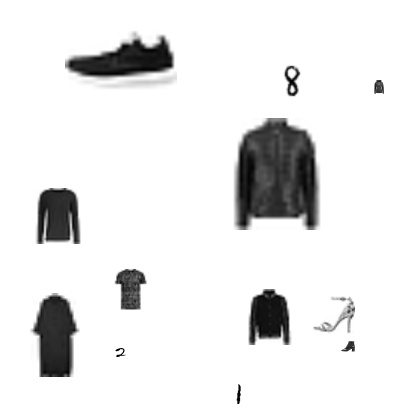1: (224, 380, 252, 408)
2: (113, 345, 127, 359)
8: (270, 60, 312, 102)
Ankle_boot: (341, 339, 355, 353)
Coat: (219, 118, 331, 230), (241, 289, 297, 345)
Dress: (13, 293, 97, 377)
Pullover: (30, 188, 86, 244), (372, 80, 386, 94)
Sandal: (313, 294, 355, 336)
Sneaker: (65, 4, 177, 116)
T-shirt/top: (109, 269, 151, 311)
